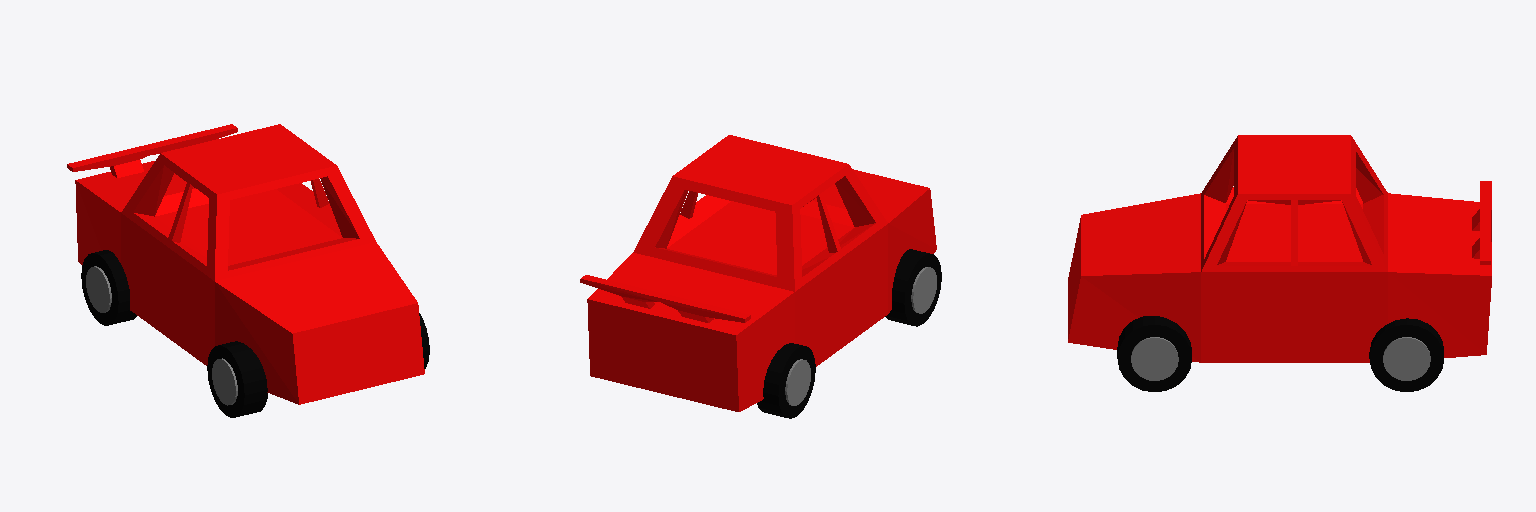
The model's file is newtest.obj.
3 views of the same model, side by side, from view 1: azimuth 30°, elevation 25°; view 2: azimuth 150°, elevation 25°; view 3: azimuth 270°, elevation 25° (orthographic).
Parts seen in each view (by area): view 1: test:polySurface1, test:FrontTires, test:BackTires1; view 2: test:polySurface1, test:BackTires1, test:FrontTires; view 3: test:polySurface1, test:FrontTires, test:BackTires1.
Part boxes in pixels (left/top/right/bottom): test:polySurface1: left=67, top=124, right=424, bottom=404; test:FrontTires: left=207, top=313, right=429, bottom=417; test:BackTires1: left=81, top=250, right=136, bottom=325; test:polySurface1: left=580, top=135, right=936, bottom=411; test:BackTires1: left=757, top=343, right=815, bottom=418; test:FrontTires: left=885, top=249, right=941, bottom=326; test:polySurface1: left=1068, top=135, right=1491, bottom=362; test:FrontTires: left=1117, top=316, right=1191, bottom=391; test:BackTires1: left=1369, top=318, right=1443, bottom=391.
Size of the model in its own units: 1.17 by 1.08 by 2.27.